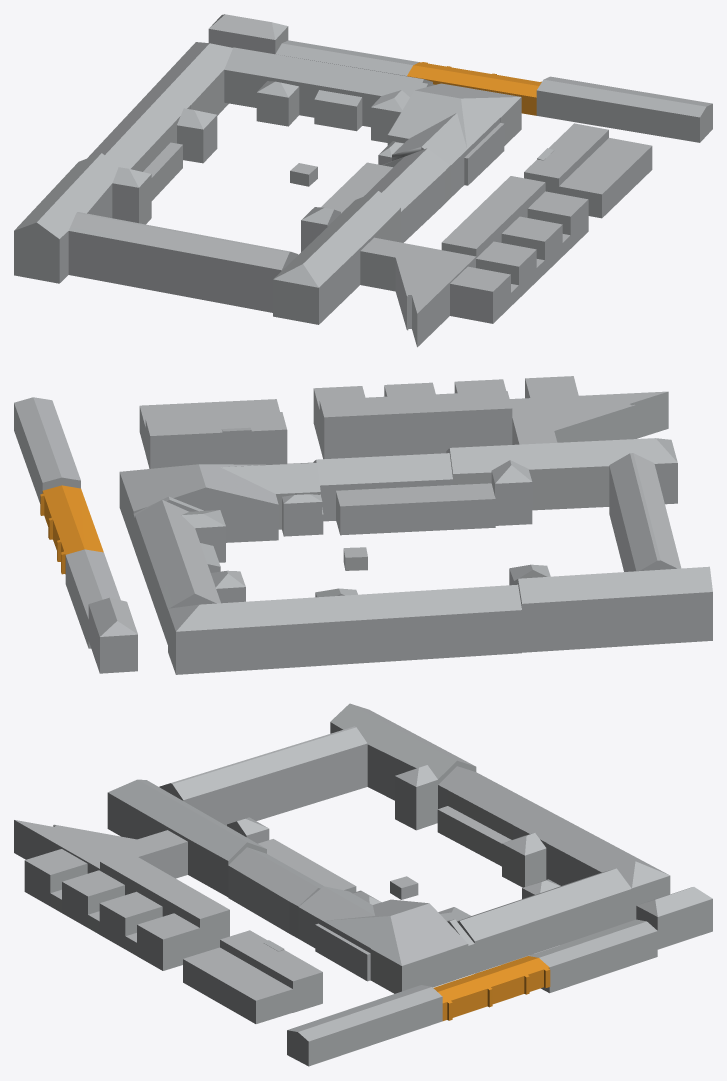
The model's file is Erfurt_FH_Umkreis_Haus11Markiert.glb.
3 renders of one model, top to bottom at view 1: azimuth 30°, elevation 25°; view 2: azimuth 150°, elevation 25°; view 3: azimuth 270°, elevation 25°, orthographic. The views are drawn at different scales.
Parts seen in each view (by area): view 1: FaceSet_2226_node, FaceSet_1154_node, FaceSet_1188_node, FaceSet_14_node, FaceSet_146_node, FaceSet_2228_node, FaceSet_987_node, FaceSet_2998_node, FaceSet_989_node, FaceSet_2970_node, FaceSet_2187_node, FaceSet_3020_node (+19 smaller); view 2: FaceSet_1188_node, FaceSet_2228_node, FaceSet_2187_node, FaceSet_1154_node, FaceSet_987_node, FaceSet_53_node, FaceSet_146_node, FaceSet_2226_node, FaceSet_2059_node, FaceSet_989_node, FaceSet_2970_node, FaceSet_14_node (+17 smaller); view 3: FaceSet_2226_node, FaceSet_1188_node, FaceSet_146_node, FaceSet_987_node, FaceSet_1154_node, FaceSet_14_node, FaceSet_2228_node, FaceSet_2998_node, FaceSet_1055_node, FaceSet_989_node, FaceSet_2187_node, FaceSet_3018_node (+15 smaller).
Boxes of the visible parts, box(x1,y1,x2,y2) form: FaceSet_2226_node: box(68, 212, 298, 312); FaceSet_1154_node: box(273, 191, 400, 324); FaceSet_1188_node: box(87, 42, 232, 171); FaceSet_14_node: box(536, 76, 712, 142); FaceSet_146_node: box(224, 47, 432, 127); FaceSet_2228_node: box(14, 153, 121, 283); FaceSet_987_node: box(387, 83, 521, 154); FaceSet_2998_node: box(559, 138, 652, 218); FaceSet_989_node: box(364, 148, 450, 242); FaceSet_2970_node: box(399, 250, 476, 347); FaceSet_2187_node: box(441, 176, 545, 257); FaceSet_3020_node: box(450, 266, 510, 323); FaceSet_1188_node: box(168, 584, 521, 674); FaceSet_2228_node: box(514, 566, 712, 652); FaceSet_2187_node: box(319, 391, 512, 459); FaceSet_1154_node: box(446, 438, 677, 510); FaceSet_987_node: box(119, 464, 278, 546); FaceSet_53_node: box(336, 483, 495, 535); FaceSet_146_node: box(135, 500, 220, 644); FaceSet_2226_node: box(609, 453, 681, 571); FaceSet_2059_node: box(145, 412, 287, 468); FaceSet_989_node: box(313, 453, 452, 534); FaceSet_2970_node: box(509, 391, 668, 438); FaceSet_14_node: box(14, 397, 80, 503); FaceSet_2226_node: box(159, 726, 367, 825); FaceSet_1188_node: box(438, 766, 670, 920); FaceSet_146_node: box(457, 868, 631, 973); FaceSet_987_node: box(323, 899, 468, 993); FaceSet_1154_node: box(107, 779, 266, 896); FaceSet_14_node: box(287, 985, 442, 1066); FaceSet_2228_node: box(330, 703, 476, 800); FaceSet_2998_node: box(183, 947, 292, 1023); FaceSet_1055_node: box(529, 919, 657, 993); FaceSet_989_node: box(228, 847, 323, 938); FaceSet_2187_node: box(100, 852, 229, 953); FaceSet_3018_node: box(433, 956, 550, 1020).
Size of the model in its own units: 264 by 22.39 by 244.
